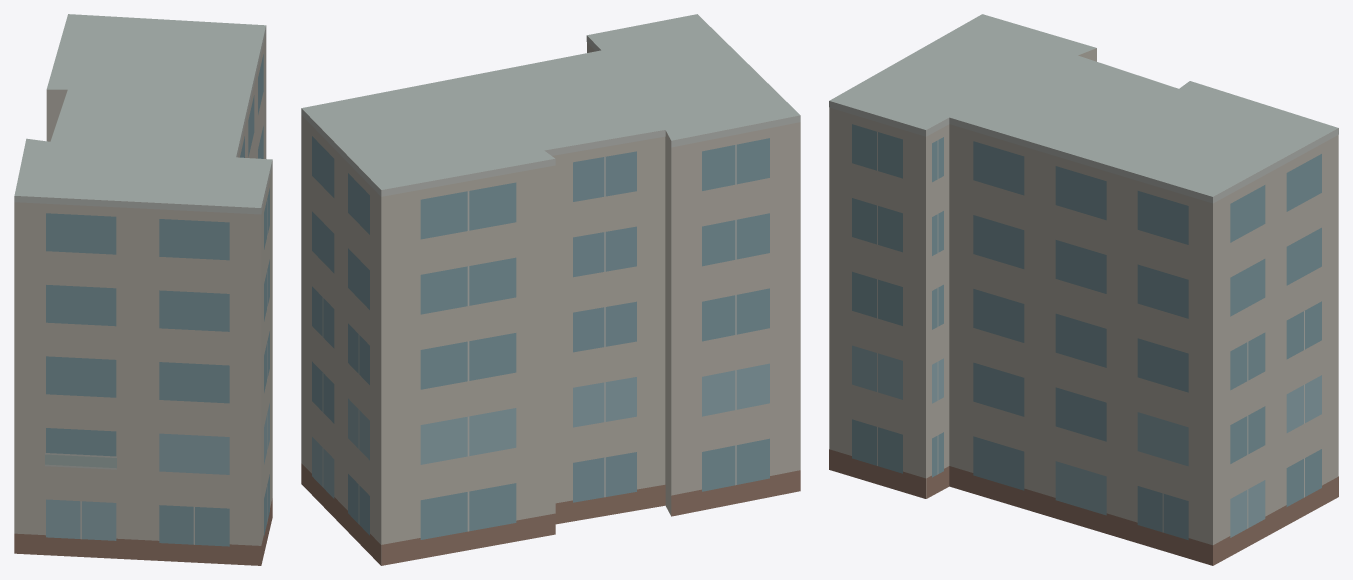
File: survey-upis-33004018.glb
3 renders of one model, left to right at view 1: azimuth 30°, elevation 25°; view 2: azimuth 150°, elevation 25°; view 3: azimuth 270°, elevation 25°, orthographic. The views are drawn at different scales.
Parts seen in each view (by area): view 1: survey-upis-33004018.tmp; view 2: survey-upis-33004018.tmp; view 3: survey-upis-33004018.tmp.
Boxes of the visible parts, x1,y1,x2,y2 form: survey-upis-33004018.tmp: (14, 14, 272, 565); survey-upis-33004018.tmp: (301, 14, 800, 565); survey-upis-33004018.tmp: (829, 14, 1338, 565).
Size of the model in its own units: 14.47 by 13.6 by 17.04.
